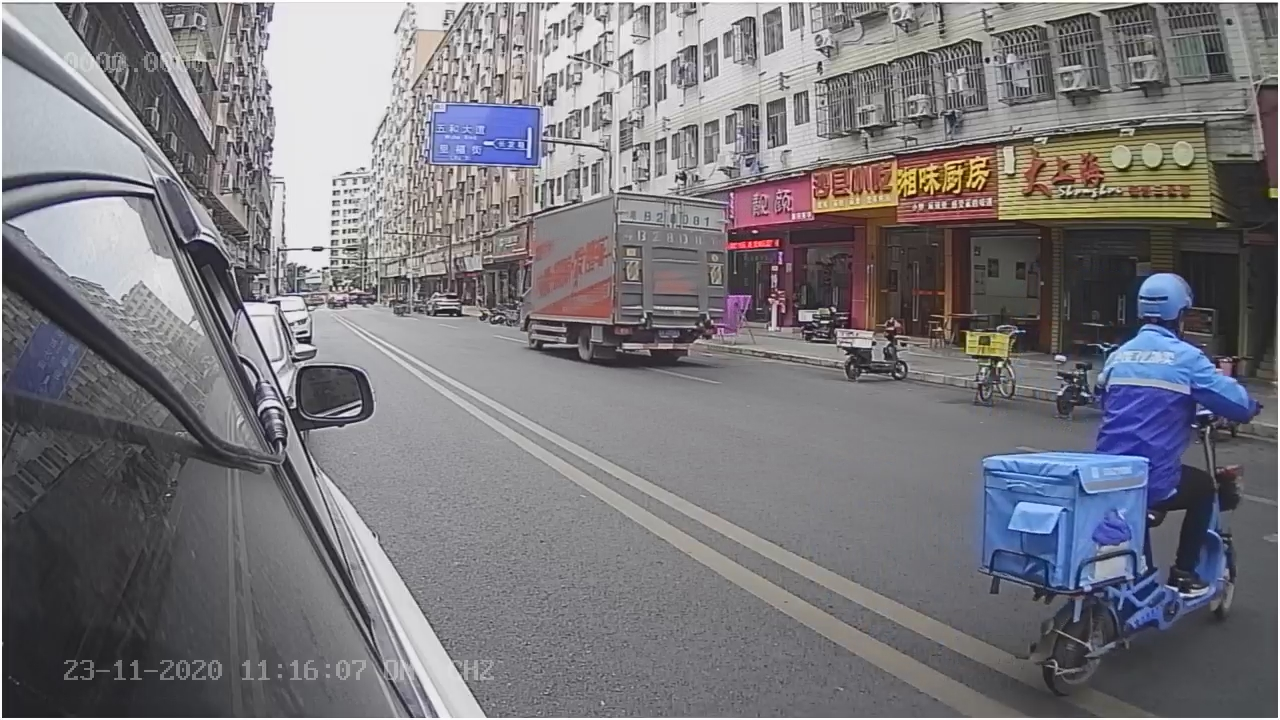person: (1094, 268, 1262, 428)
